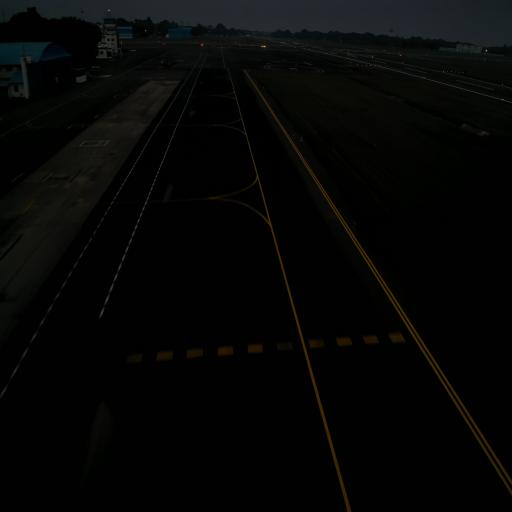on: (300, 134, 304, 141)
